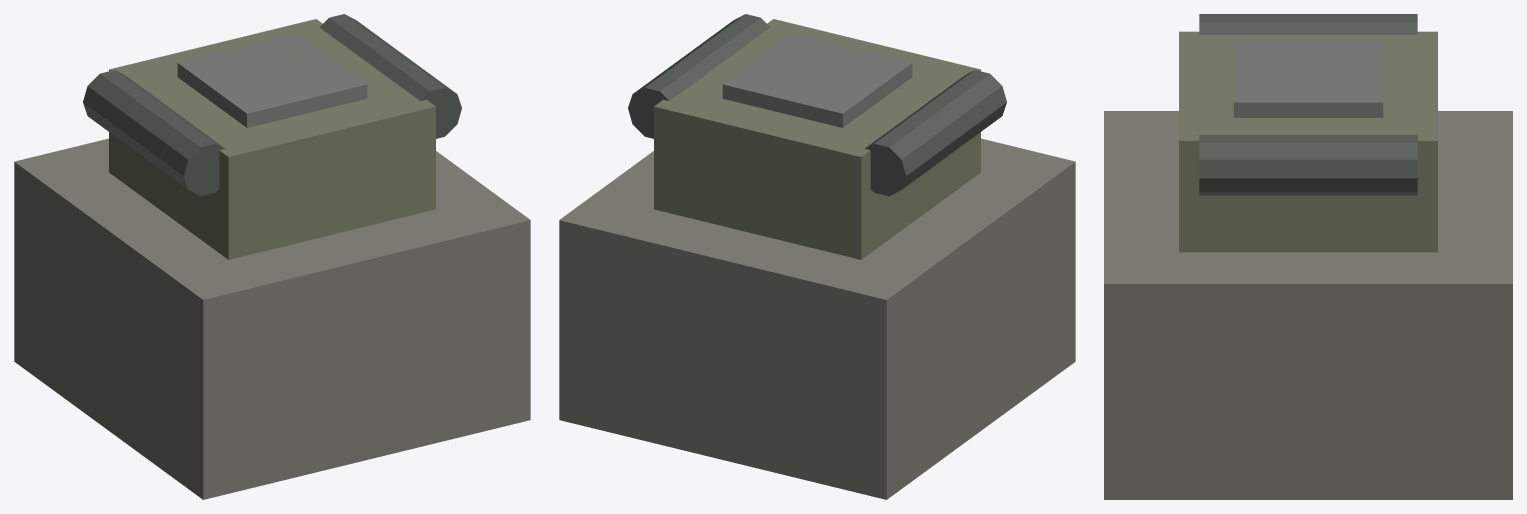
Rendered from generator.glb.
The picture shows the model from 3 angles, left to right: view 1: azimuth 30°, elevation 25°; view 2: azimuth 150°, elevation 25°; view 3: azimuth 270°, elevation 25°; orthographic projection. The views are drawn at different scales.
Visible parts, largest first — view 1: p0, p1, p4, p2, p3; view 2: p0, p1, p4, p2, p3; view 3: p0, p1, p3, p4, p2.
Part boxes in pixels (bbox=[...]): p0: bbox=[14, 138, 530, 499]; p1: bbox=[109, 19, 435, 259]; p4: bbox=[177, 33, 367, 127]; p2: bbox=[83, 70, 224, 196]; p3: bbox=[319, 14, 461, 138]; p0: bbox=[559, 138, 1075, 499]; p1: bbox=[654, 19, 980, 259]; p4: bbox=[722, 33, 912, 127]; p2: bbox=[865, 70, 1006, 196]; p3: bbox=[628, 14, 770, 138]; p0: bbox=[1104, 111, 1512, 499]; p1: bbox=[1179, 31, 1437, 252]; p3: bbox=[1199, 135, 1417, 195]; p4: bbox=[1233, 39, 1383, 117]; p2: bbox=[1199, 14, 1417, 34].
Size of the model in its own units: 6 by 5.55 by 6.
